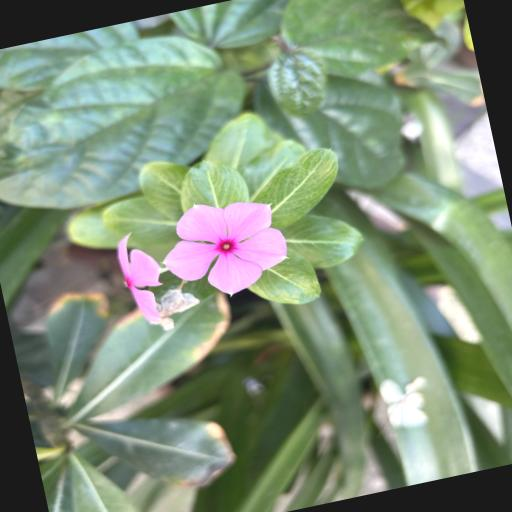Periwinkle: (159, 196, 294, 301)
